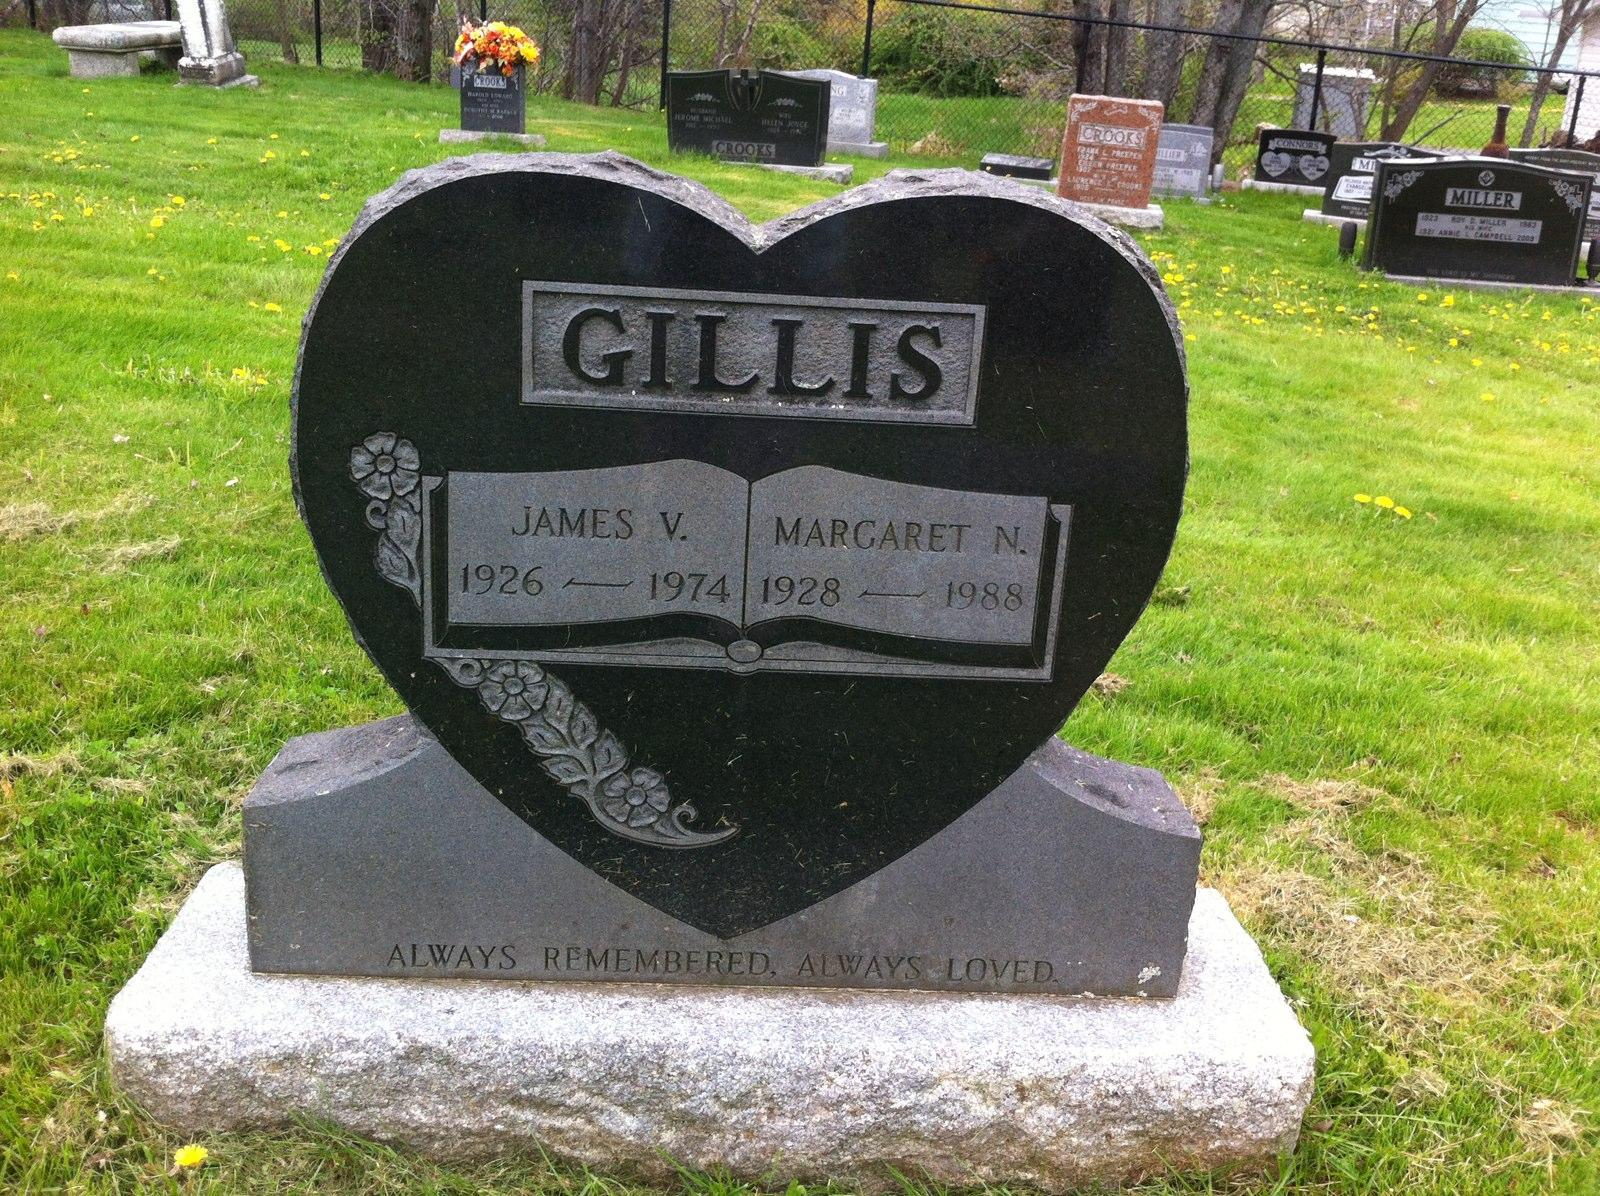upright: (102, 141, 1321, 1171)
